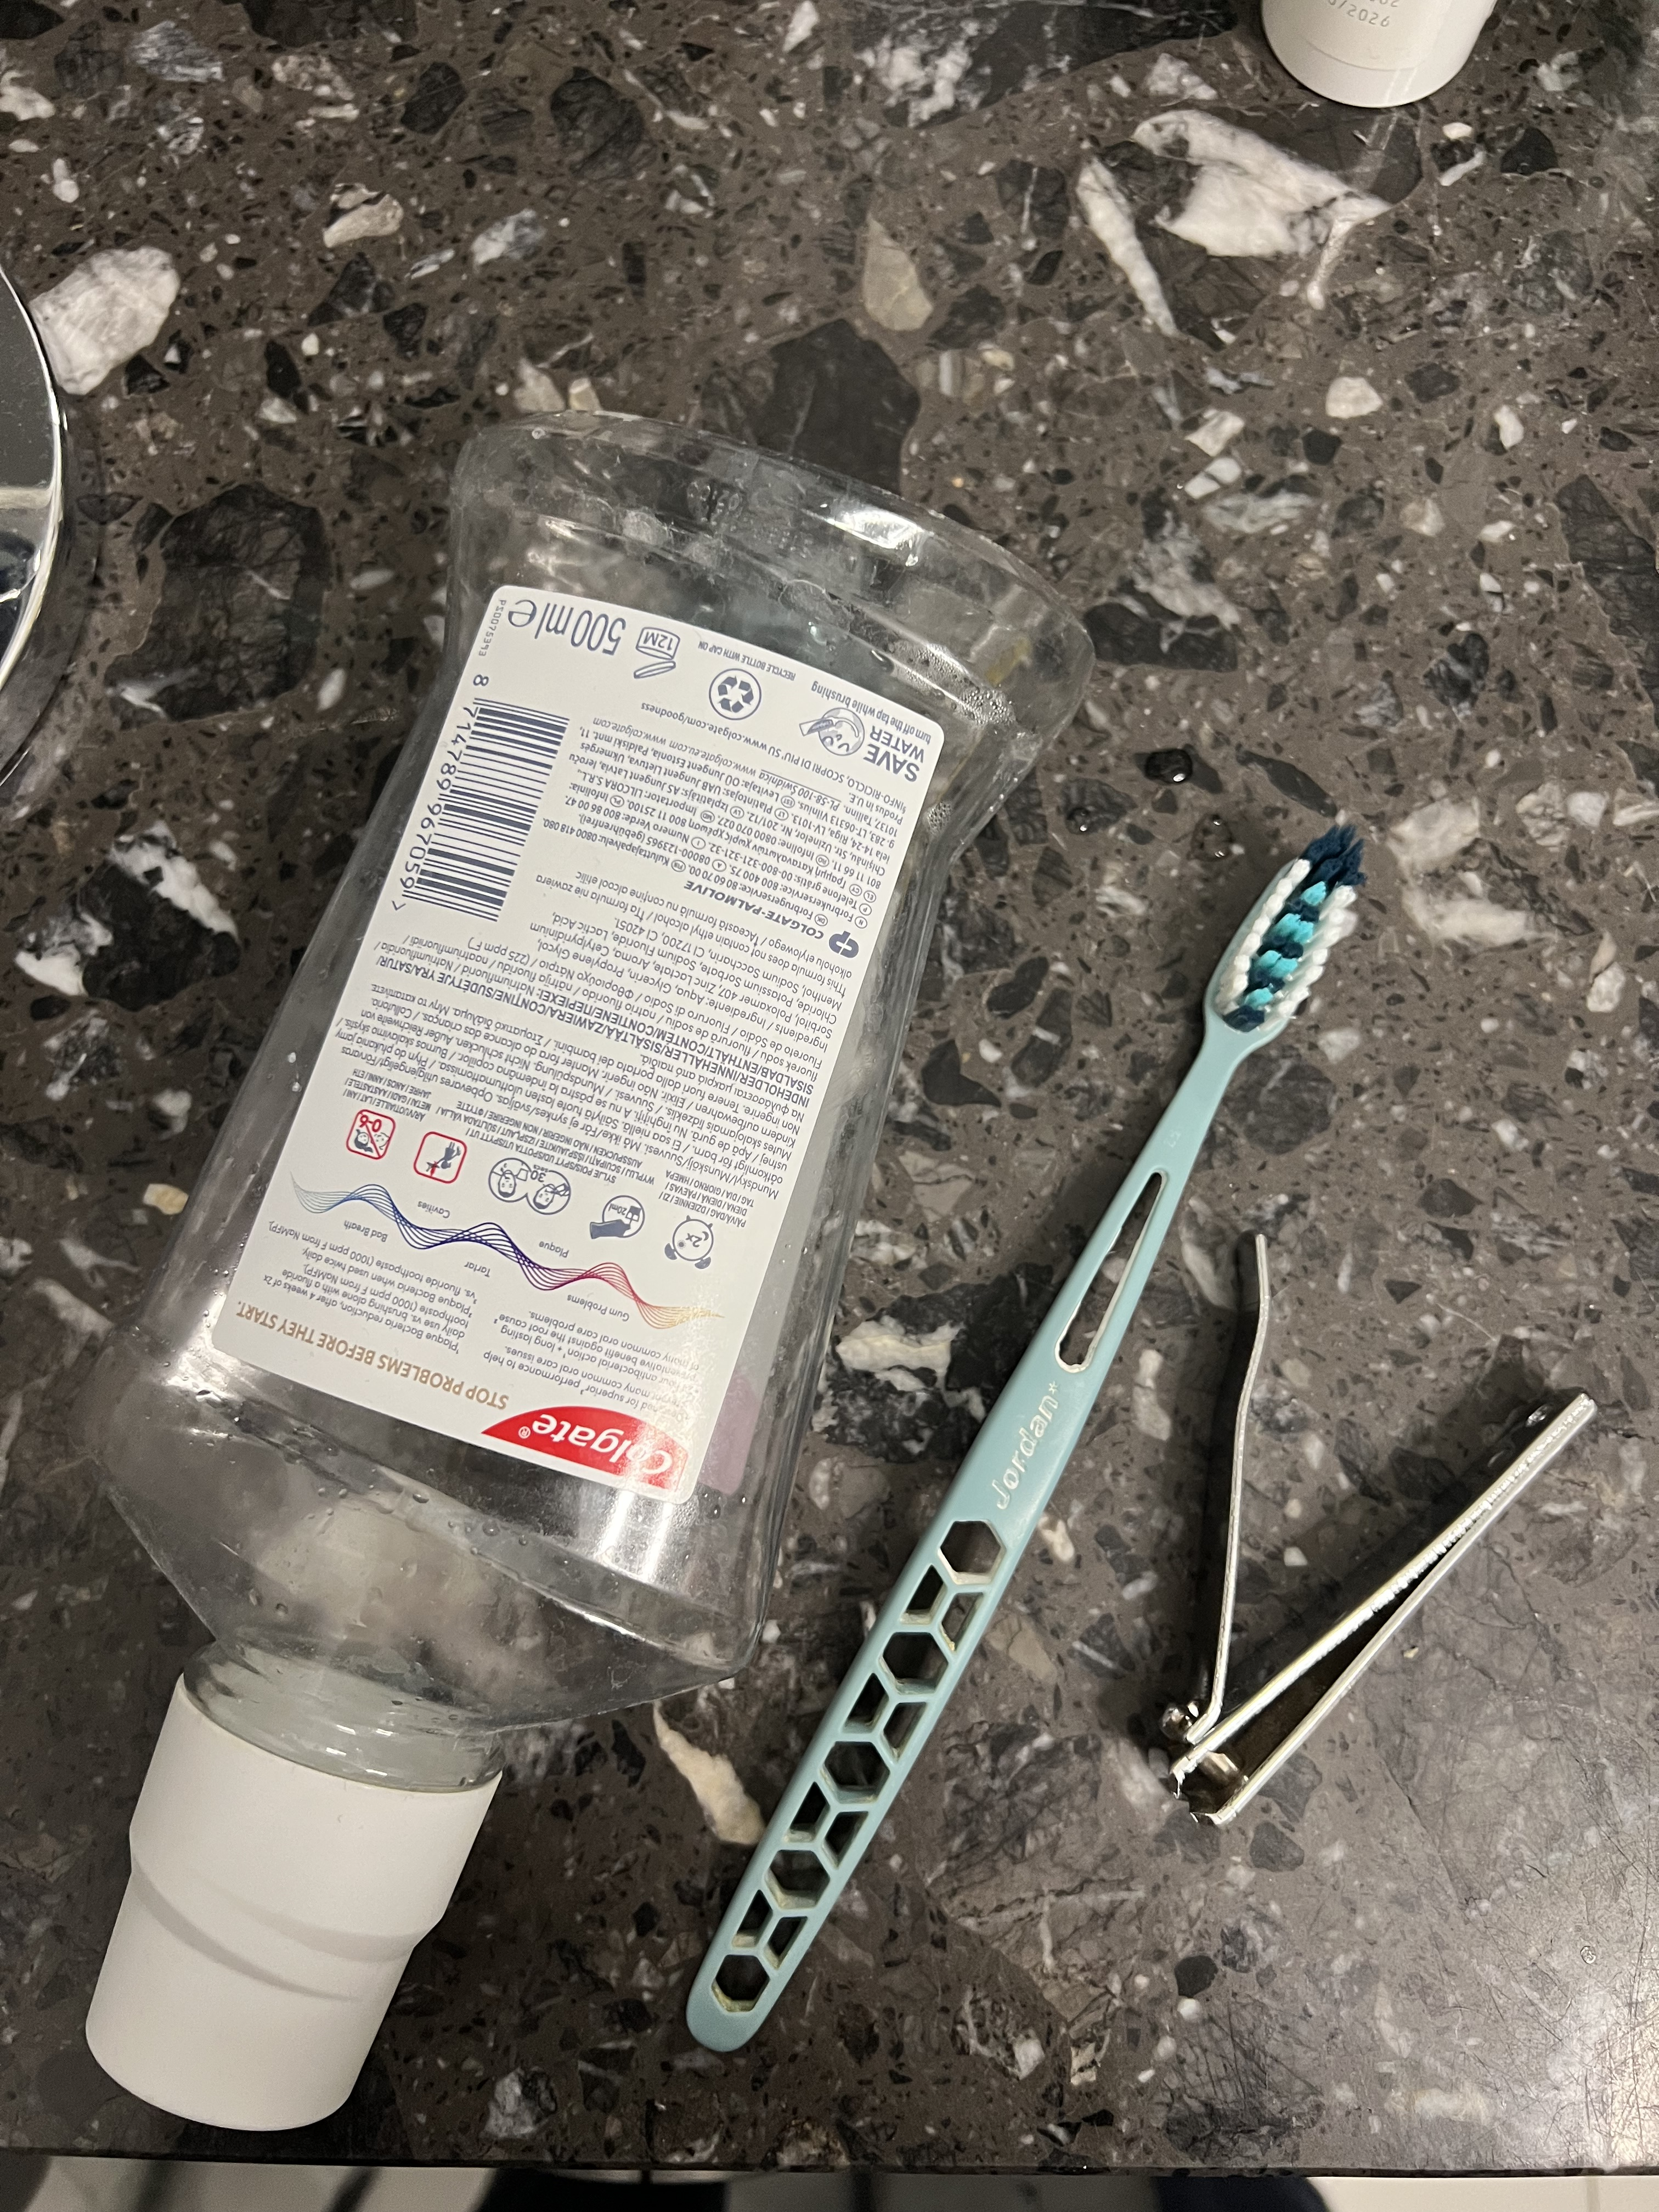METAL: (1148, 1163, 1607, 1922)
PLASTIC: (47, 405, 1091, 2134), (676, 710, 1364, 2114)
